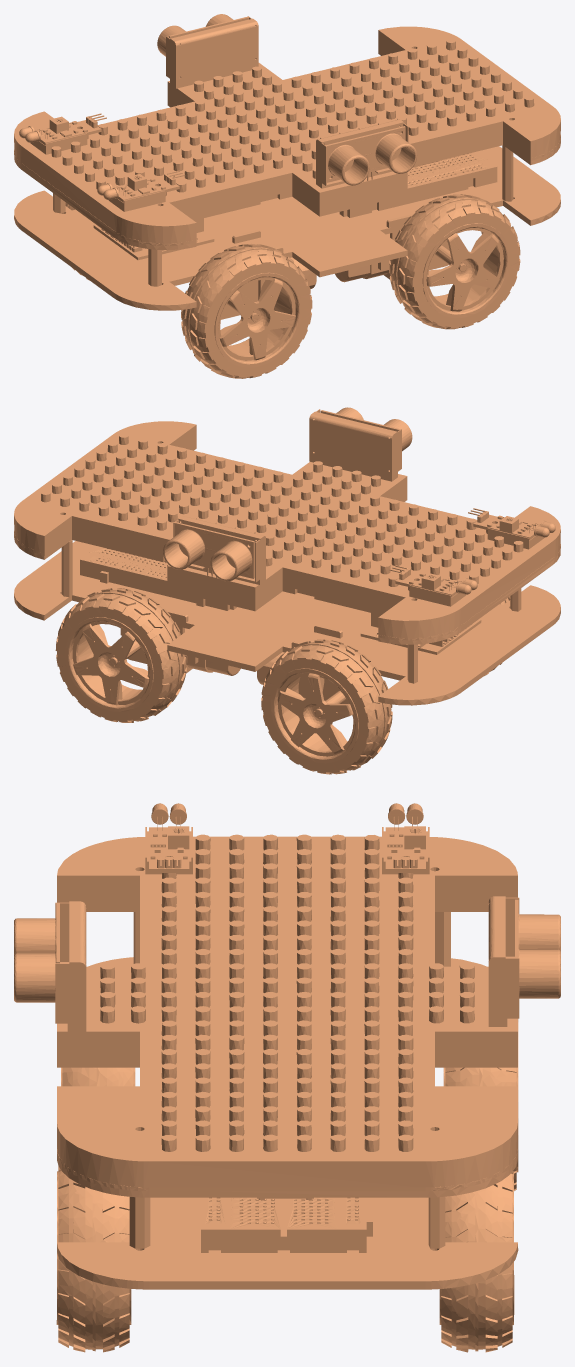
Rendered from robot.glb.
The picture shows the model from 3 angles, top to bottom: view 1: azimuth 30°, elevation 25°; view 2: azimuth 150°, elevation 25°; view 3: azimuth 270°, elevation 25°; orthographic projection. The views are drawn at different scales.
Parts seen in each view (by area): view 1: world; view 2: world; view 3: world.
Boxes of the visible parts, x1,y1,x2,y2 form: world: [14, 14, 560, 378]; world: [14, 407, 560, 774]; world: [14, 803, 560, 1352].
Size of the model in its own units: 253 by 121 by 178.
